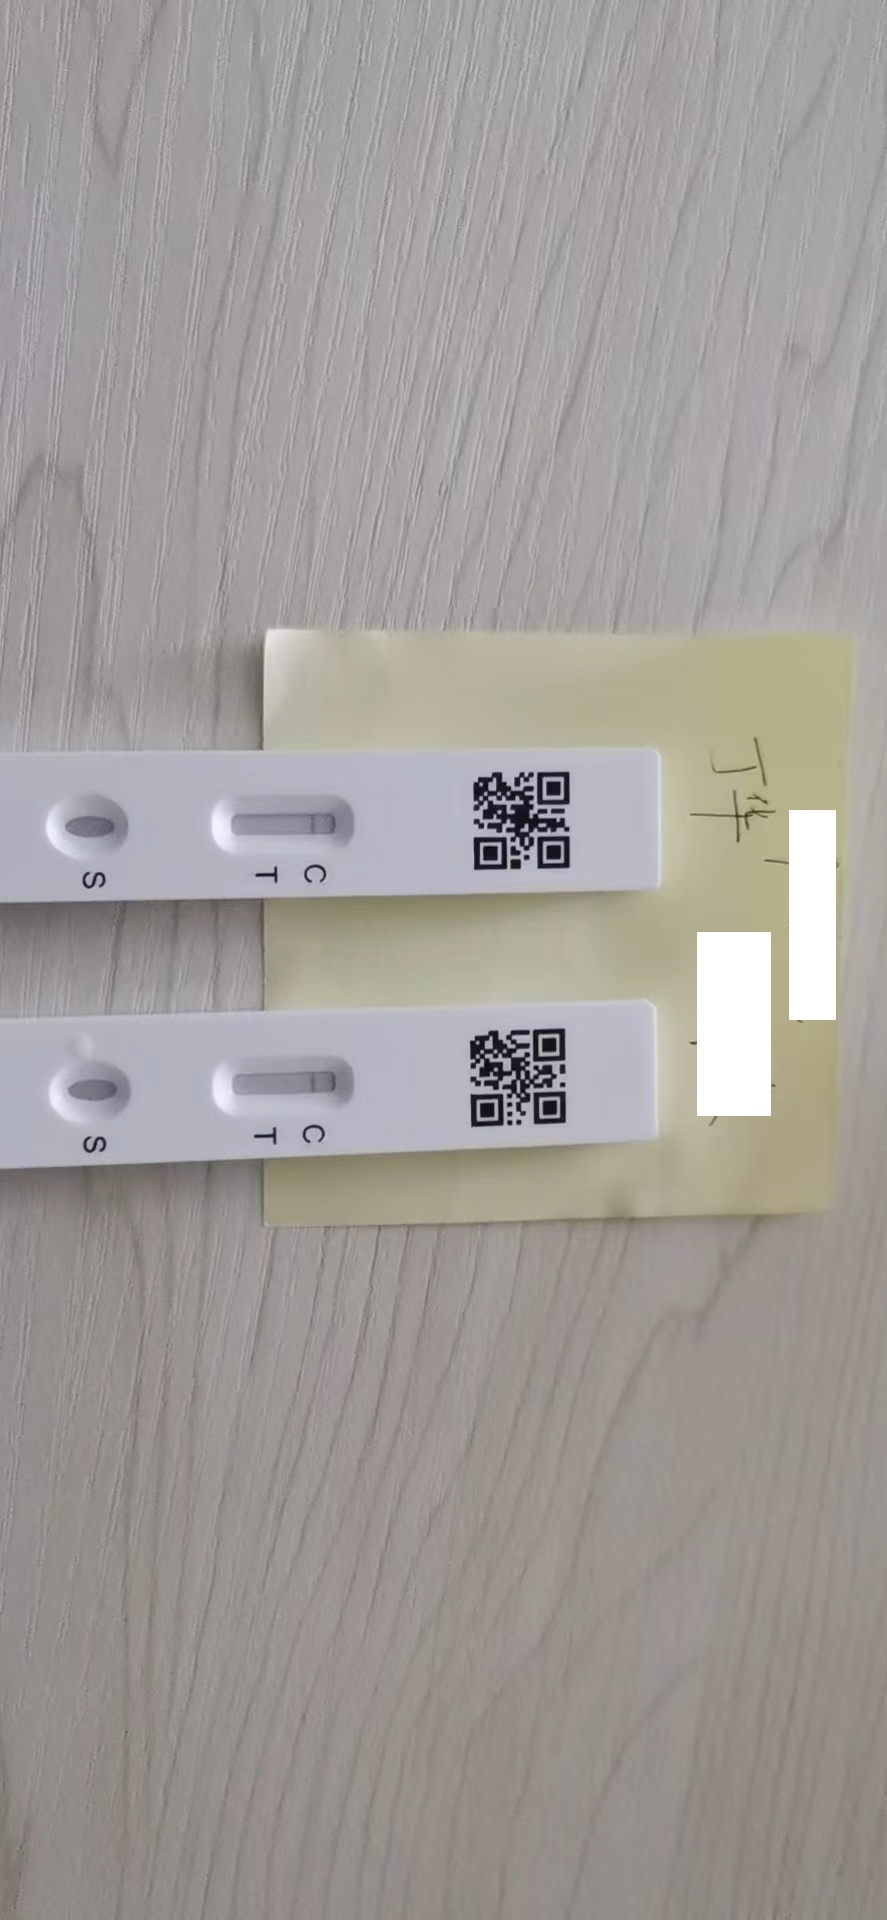negative: (217, 801, 343, 842), (219, 1063, 343, 1104)
